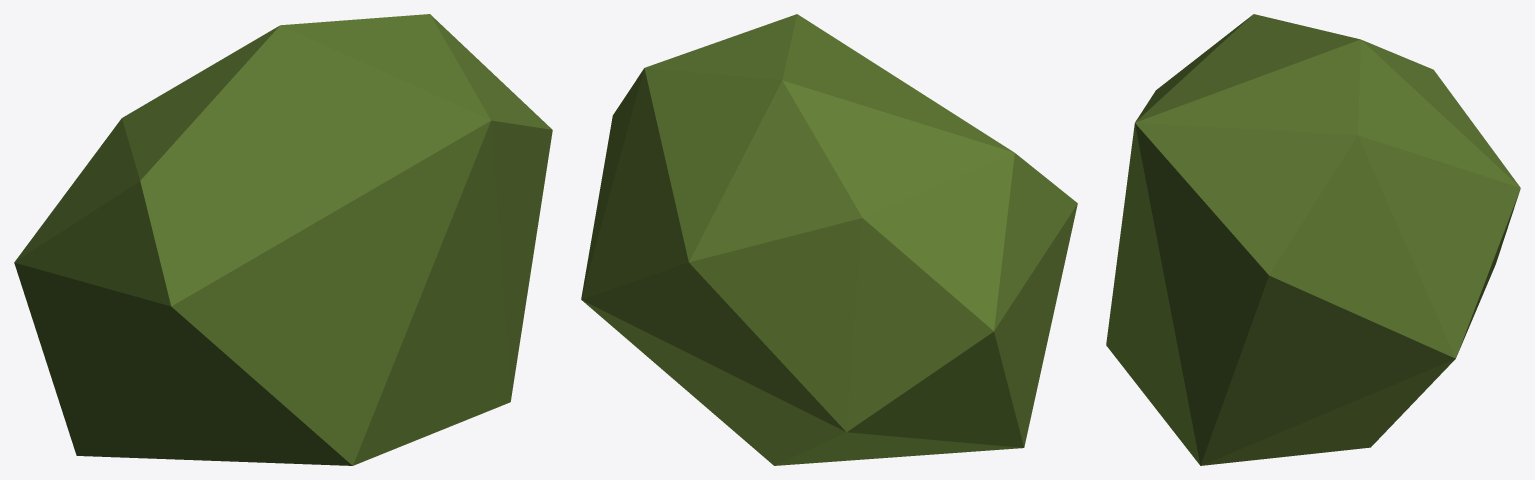
File: Bush_1.fbx
The picture shows the model from 3 angles, left to right: view 1: azimuth 30°, elevation 25°; view 2: azimuth 150°, elevation 25°; view 3: azimuth 270°, elevation 25°; orthographic projection. The views are drawn at different scales.
Visible parts, largest first — view 1: Bush_1; view 2: Bush_1; view 3: Bush_1.
Part boxes in pixels (x1,y1,x2,y2): Bush_1: [14, 14, 552, 465]; Bush_1: [581, 14, 1077, 465]; Bush_1: [1106, 14, 1520, 465].
Size of the model in its own units: 232 by 192 by 177.
